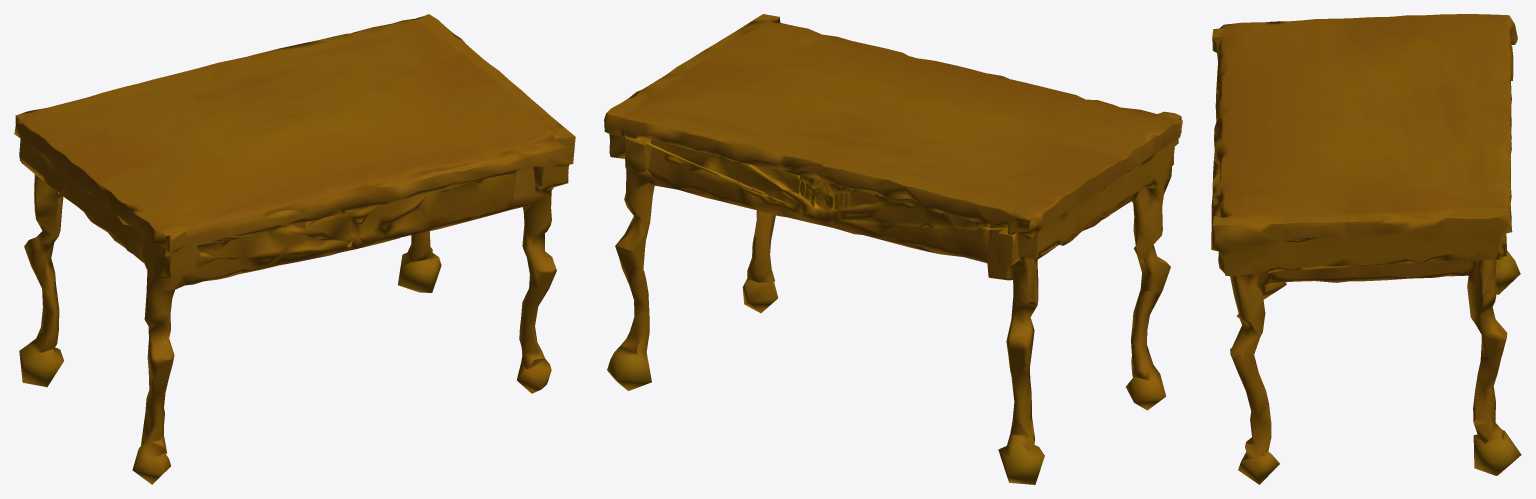
File: Table_LOD1_LOD1.fbx
3 views of the same model, side by side, from view 1: azimuth 30°, elevation 25°; view 2: azimuth 150°, elevation 25°; view 3: azimuth 270°, elevation 25° (orthographic). The views are drawn at different scales.
Visible parts, largest first — view 1: Layer_1; view 2: Layer_1; view 3: Layer_1.
Boxes of the visible parts, x1,y1,x2,y2 form: Layer_1: (14, 14, 575, 484); Layer_1: (604, 14, 1182, 484); Layer_1: (1211, 14, 1521, 484).
Size of the model in its own units: 1.79 by 1.14 by 1.14.
1 material, 1 textured.
